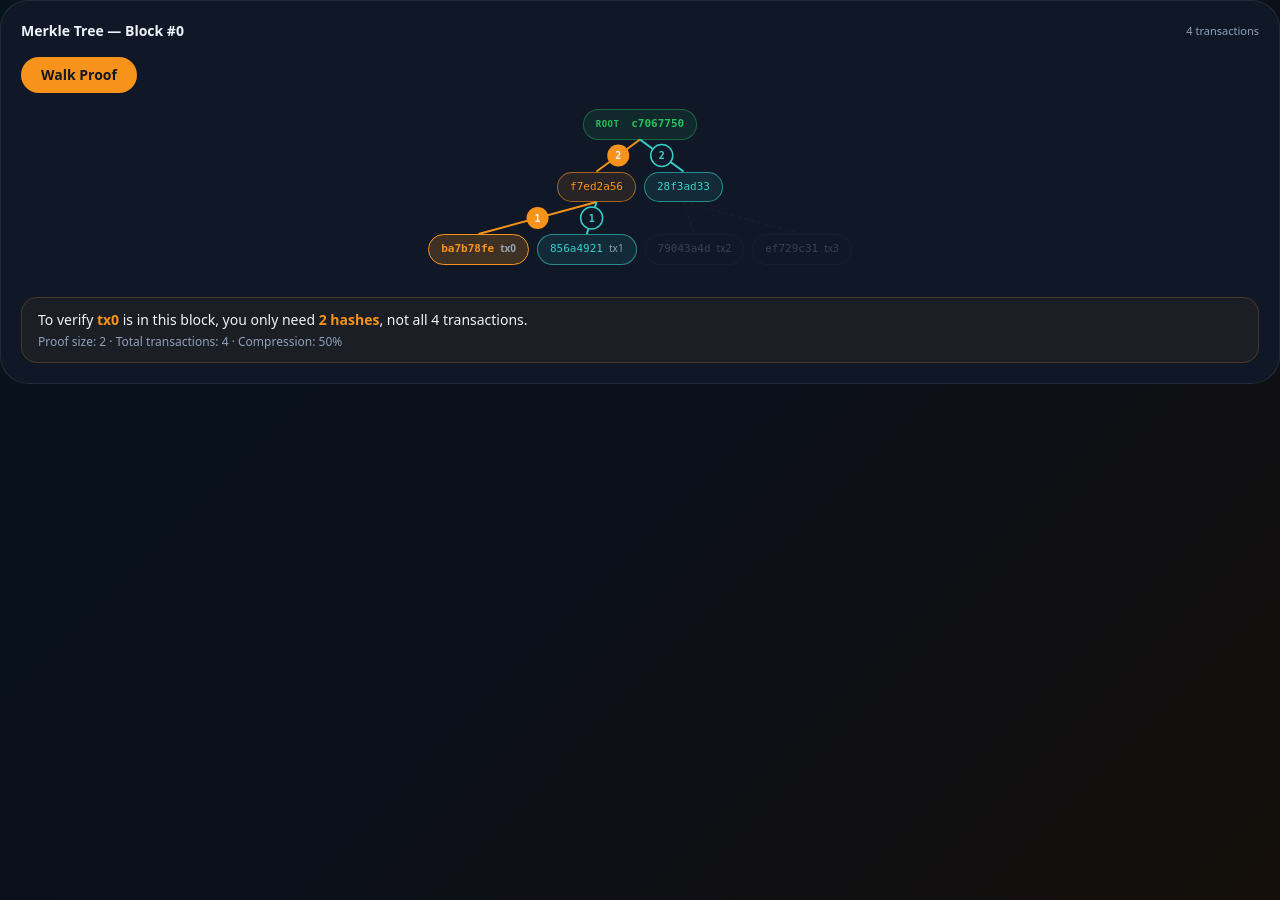
MerkleTreePanel › AC: reset returns to step 1
Click the button with aria-label "walk through proof steps": click(79, 75) [21,57,137,93]
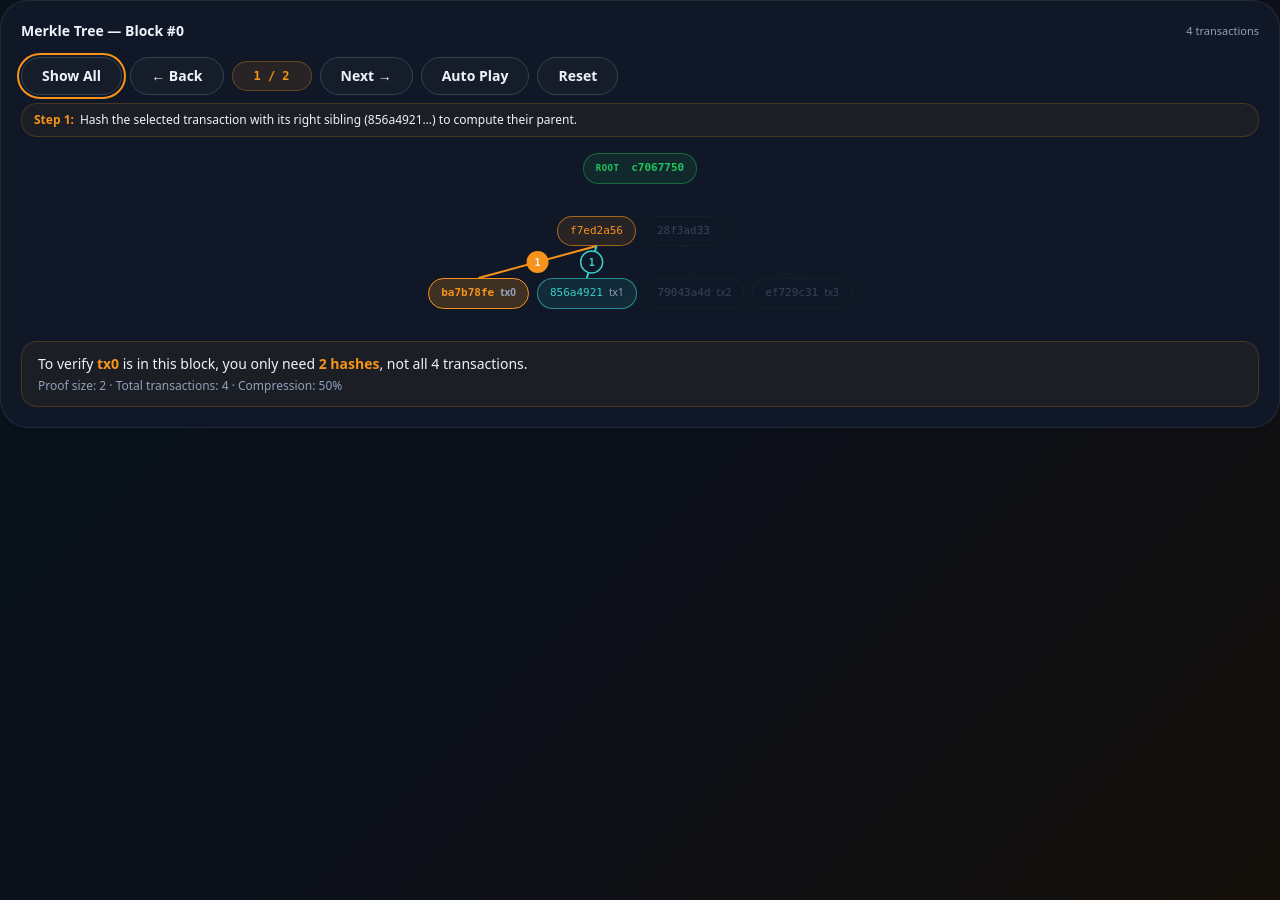
Click the button with aria-label "next proof step": click(366, 76) [320,57,413,95]
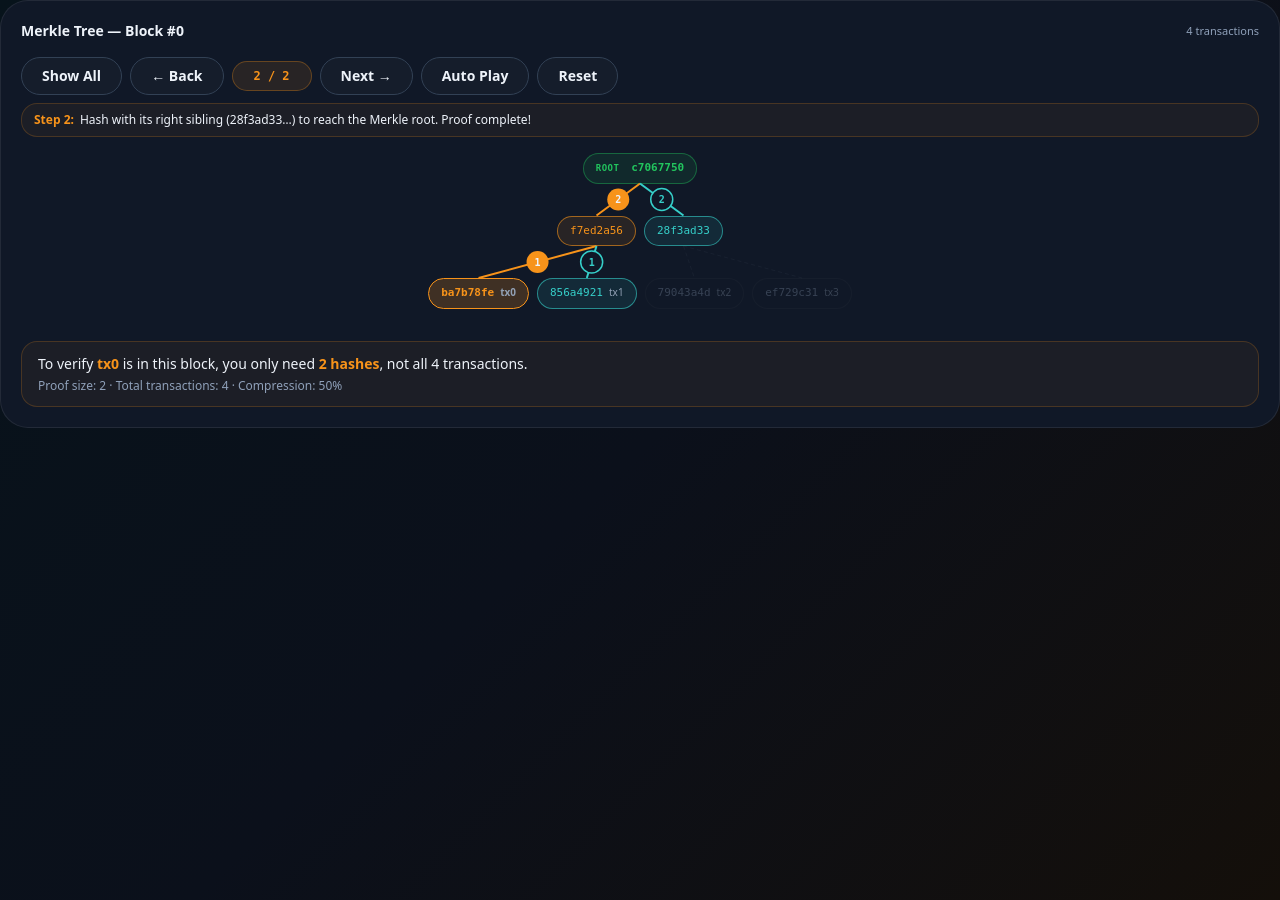
Now the text "2 / 2" is shown, box [232,61,312,91]
Click the button with aria-label "reset proof walk": click(578, 76) [537,57,618,95]
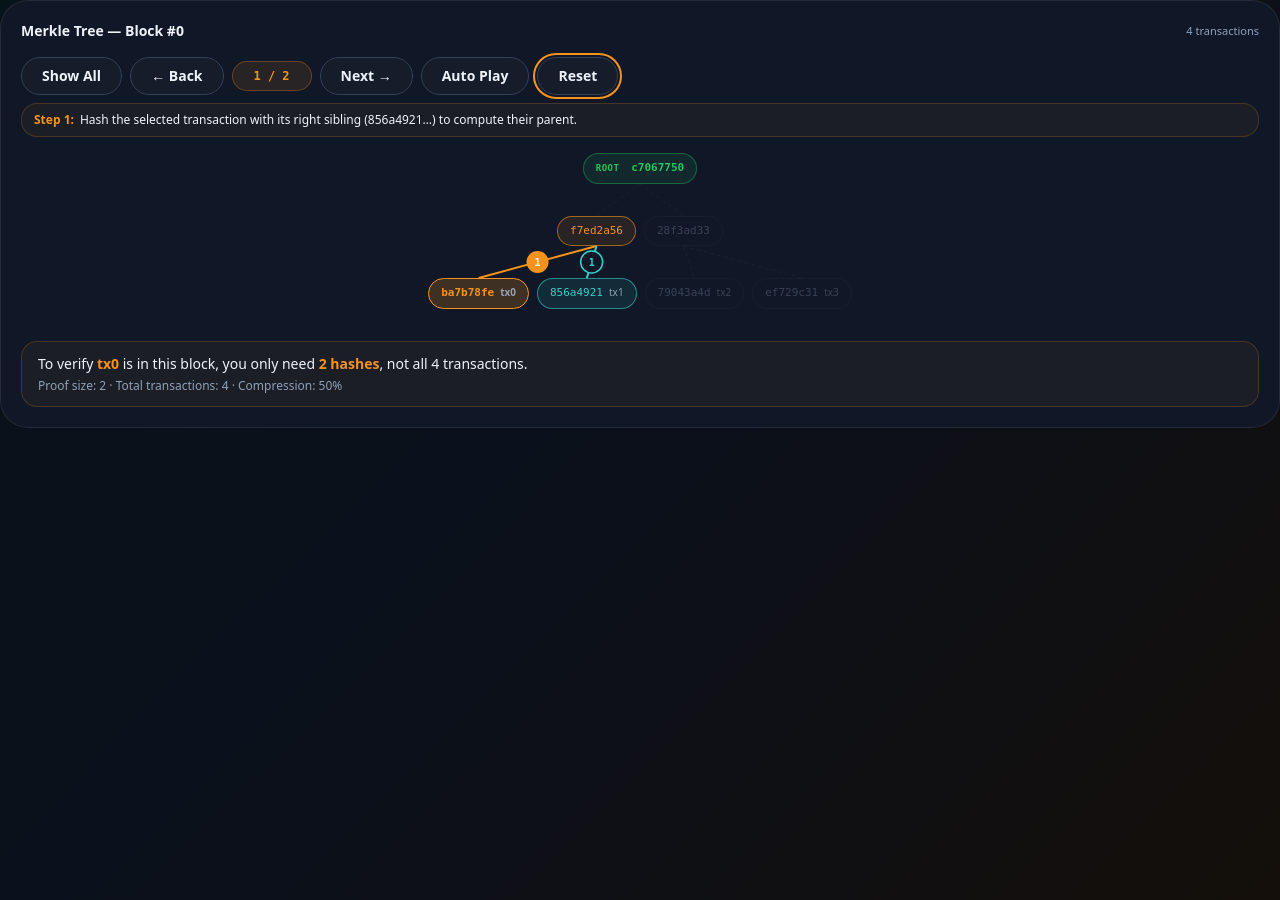
Now the text "1 / 2" is shown, box [232,61,312,91]
